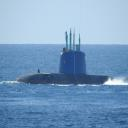submarine: (14, 28, 124, 84)
